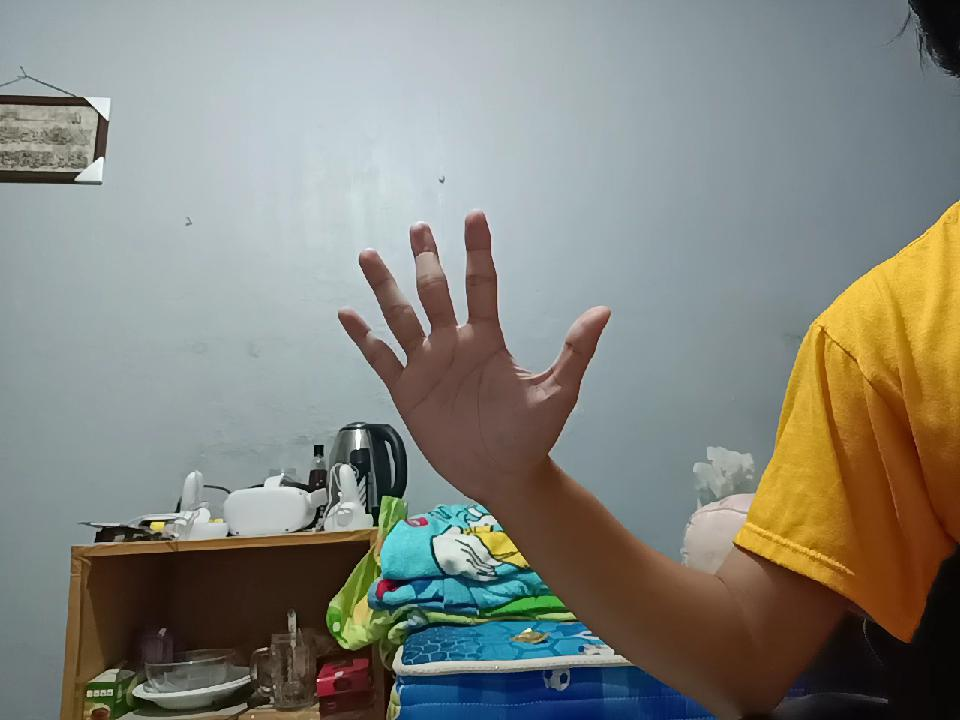paper: (343, 202, 600, 494)
